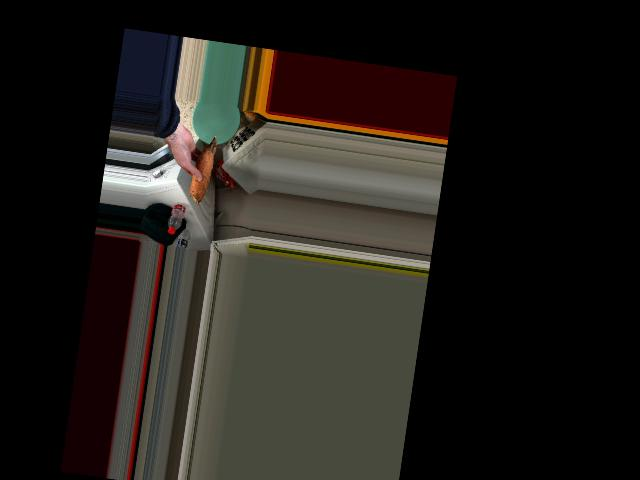sweet_potato: (191, 130, 219, 207)
